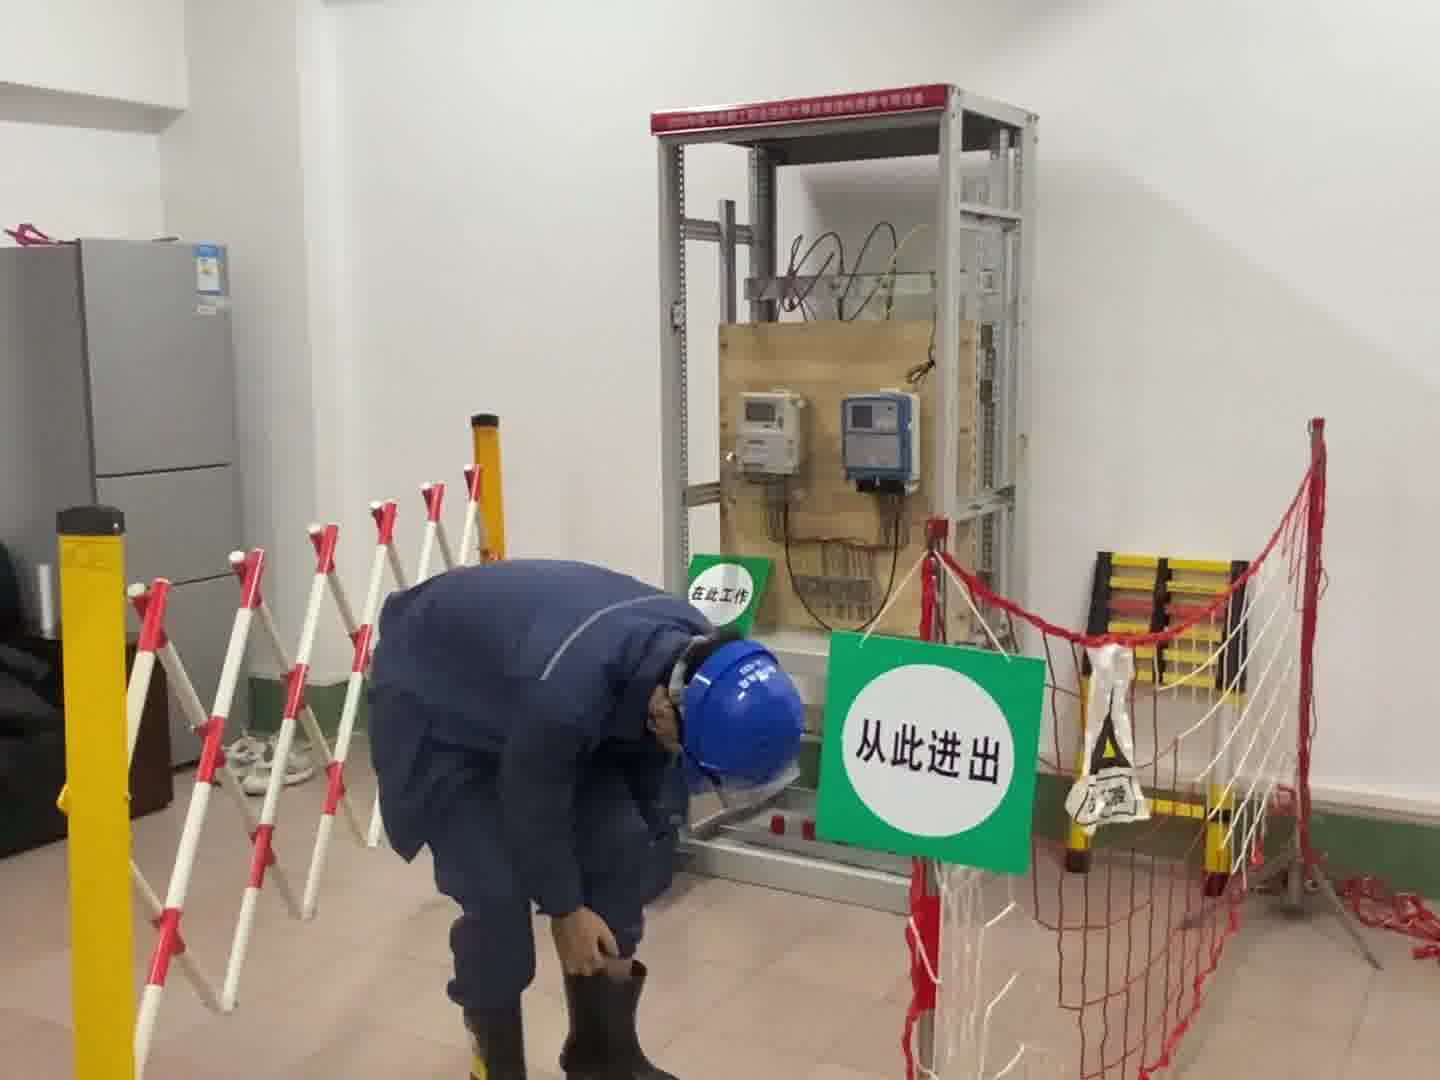downsuit: (404, 769, 681, 984)
halt: (648, 630, 806, 796)
hand: (543, 904, 622, 980)
intosign: (806, 625, 1044, 884)
person: (359, 550, 812, 1080)
shoe: (454, 968, 699, 1080)
upsuit: (365, 552, 727, 862)
worksign: (686, 543, 782, 644)
